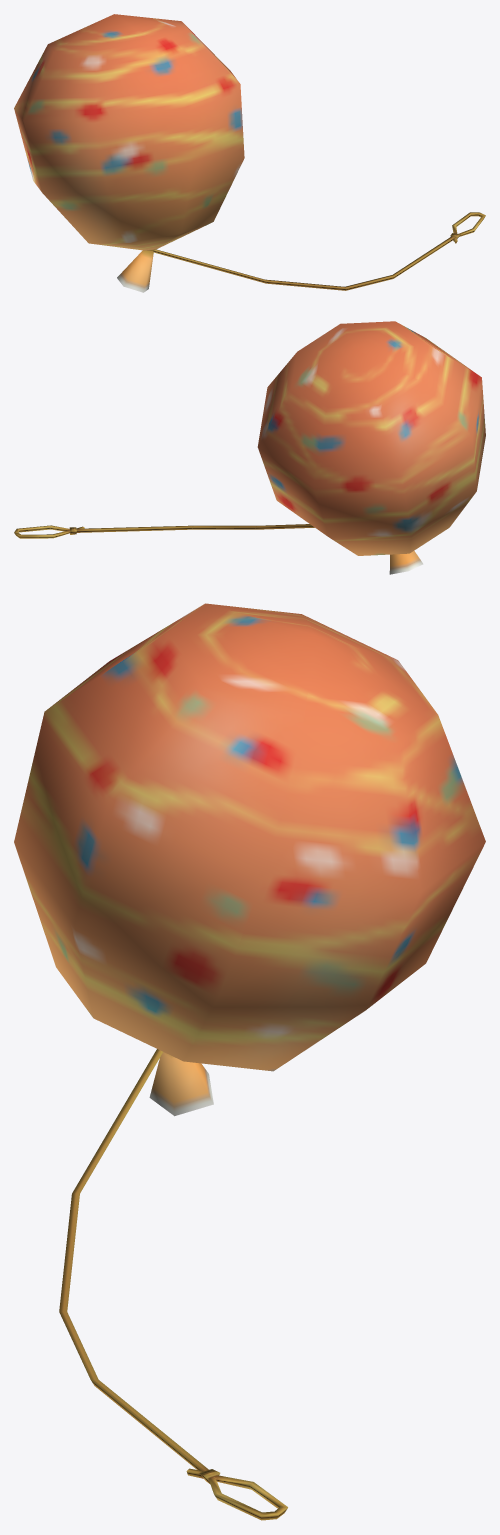
The model's file is jsf_WaterBalloon_01_b.fbx.
The picture shows the model from 3 angles, top to bottom: view 1: azimuth 30°, elevation 25°; view 2: azimuth 150°, elevation 25°; view 3: azimuth 270°, elevation 25°; orthographic projection. The views are drawn at different scales.
Parts seen in each view (by area): view 1: jsf_WaterBalloon_01_b; view 2: jsf_WaterBalloon_01_b; view 3: jsf_WaterBalloon_01_b.
Boxes of the visible parts, x1,y1,x2,y2 form: jsf_WaterBalloon_01_b: [14, 14, 485, 292]; jsf_WaterBalloon_01_b: [14, 321, 485, 574]; jsf_WaterBalloon_01_b: [14, 603, 485, 1520].
Size of the model in its own units: 24.35 by 14.34 by 11.11.
